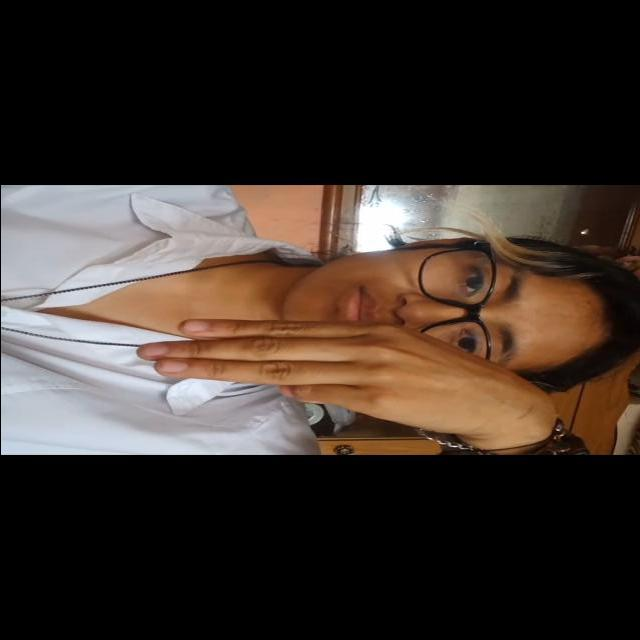M: (124, 305, 558, 447)
